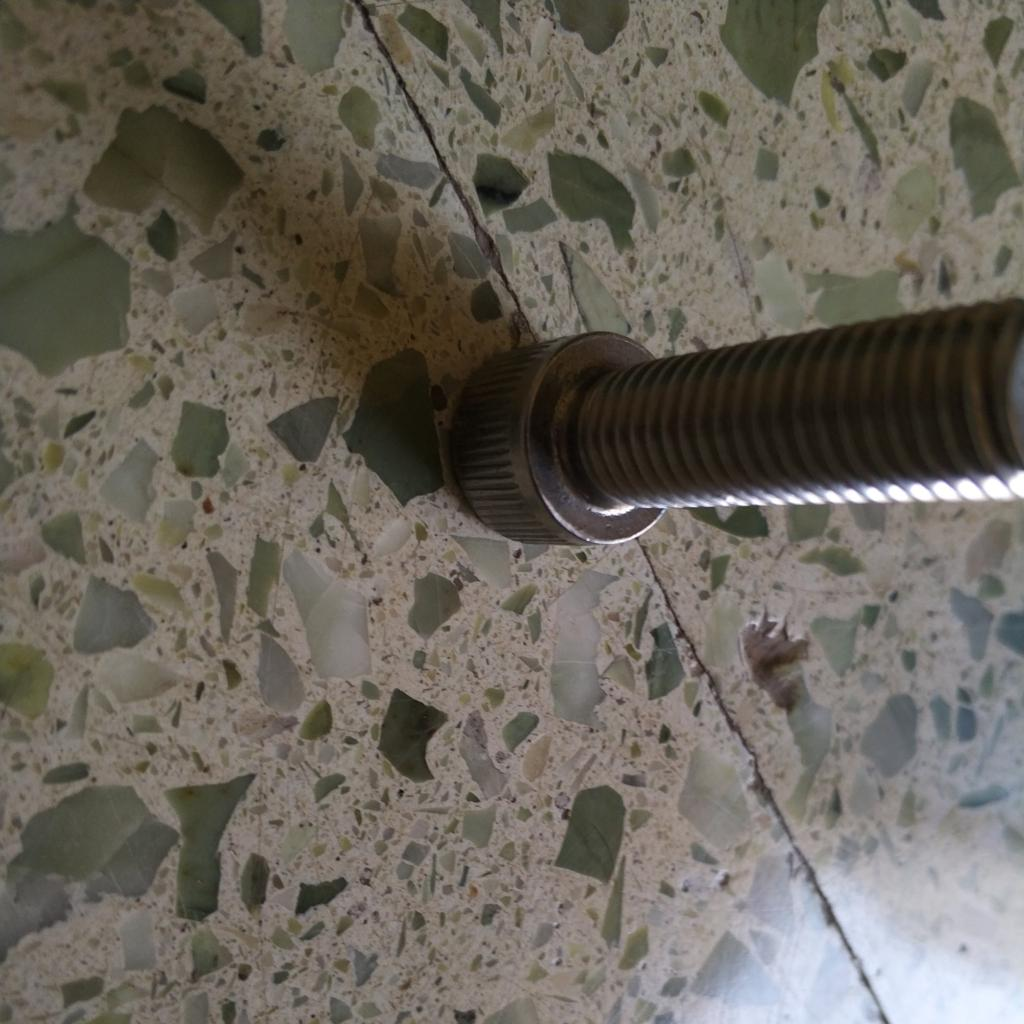screwtype1silver: (450, 294, 1024, 550)
